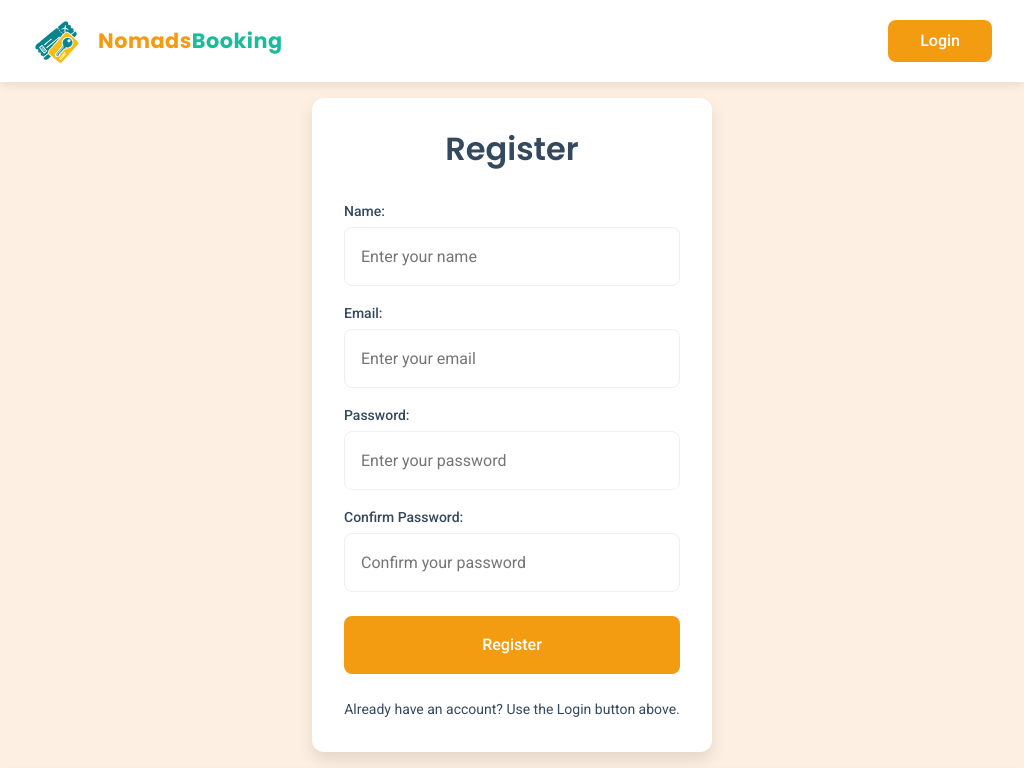
Test case: RegisterUser Component › shows success message on successful registration
Type "John Doe" into the field labelled "Name:" at (512, 257), box 344,227 -> 680,286
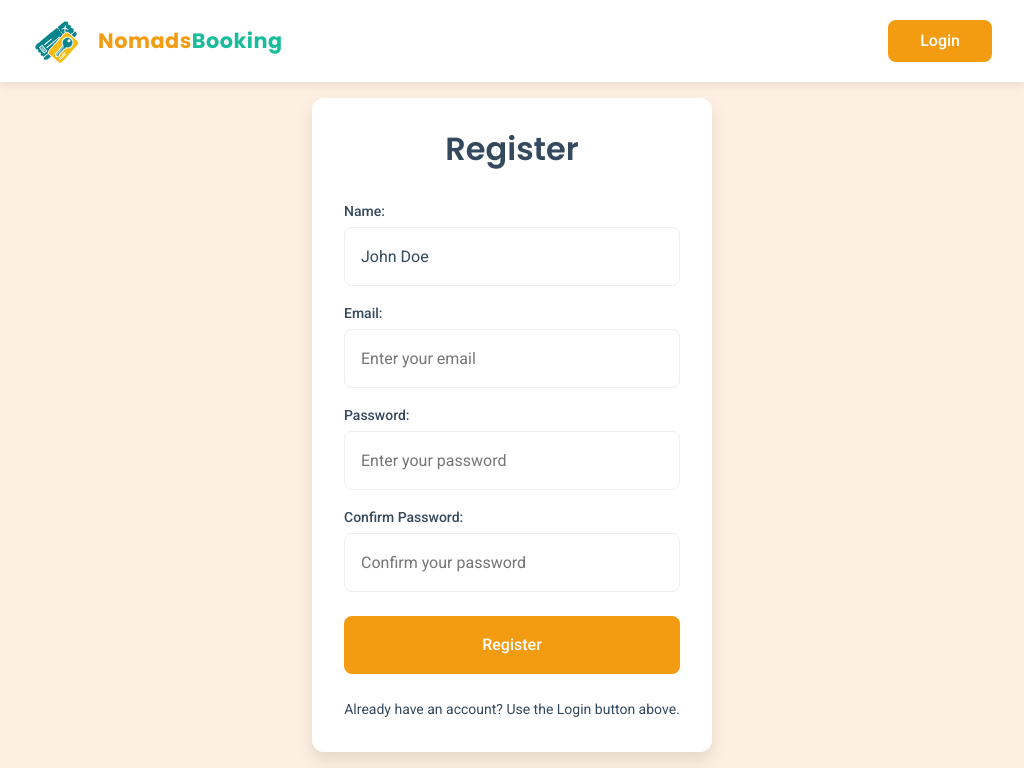
Type "john@example.com" into the field labelled "Email:" at (512, 359), box 344,329 -> 680,388
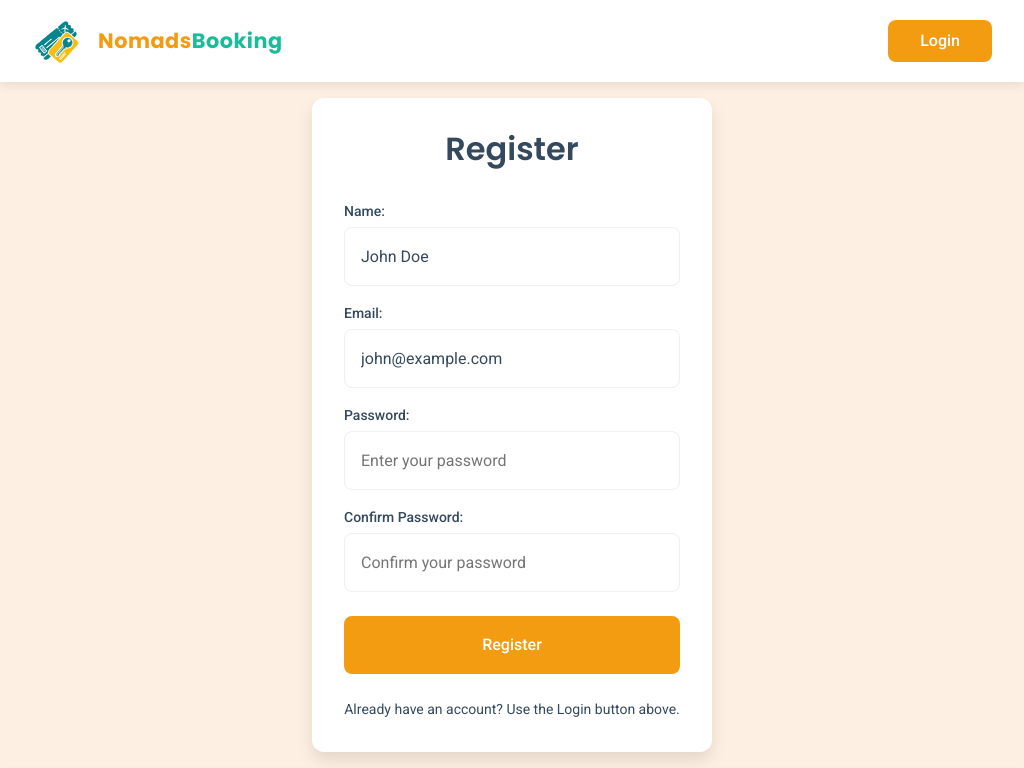
Type "password123" into the password field labelled "Password:" at (512, 461), box 344,431 -> 680,490
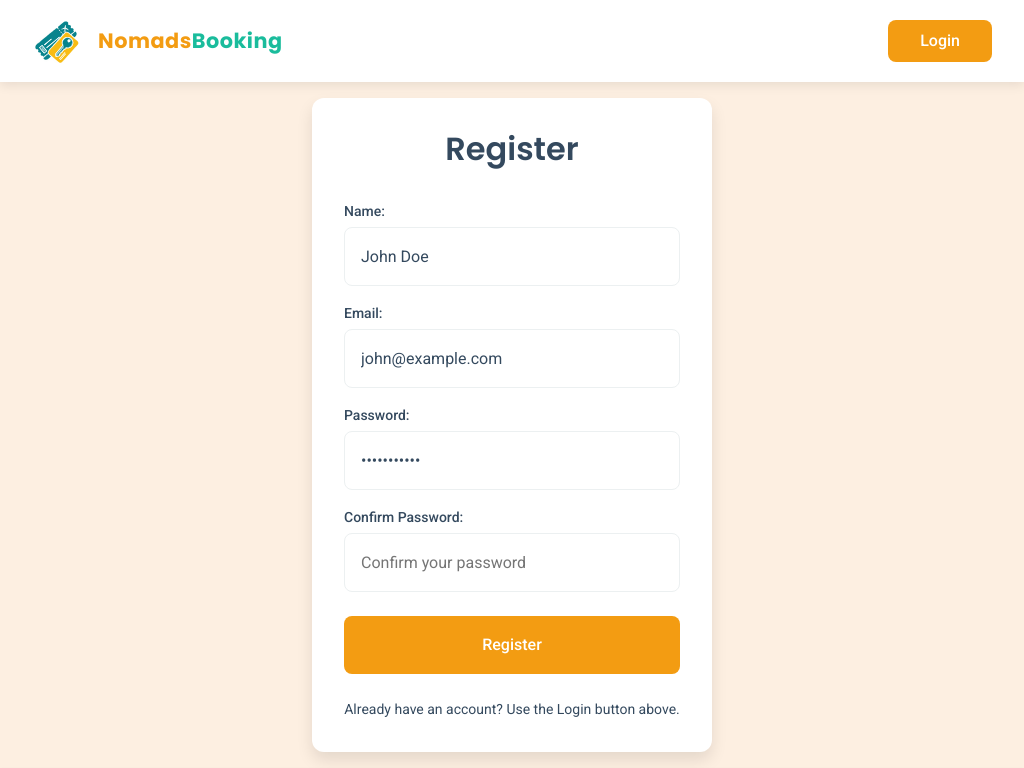
Type "password123" into the password field labelled "Confirm Password:" at (512, 562), box 344,533 -> 680,592
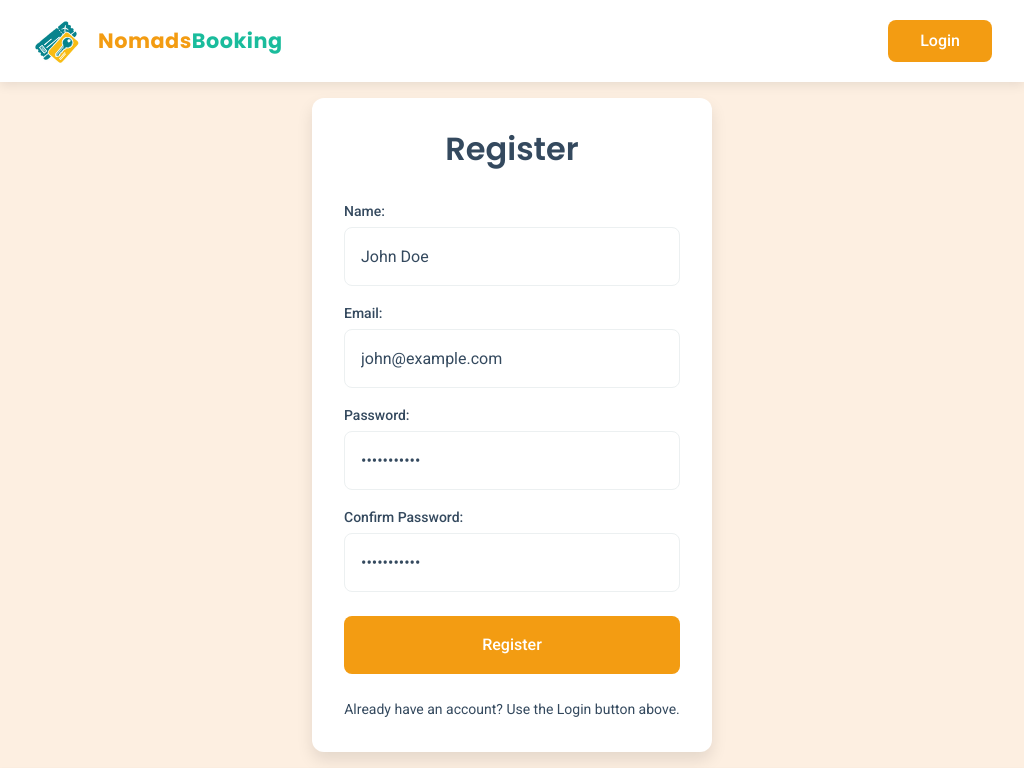
Click the button "Register" at (512, 645), box 344,616 -> 680,674
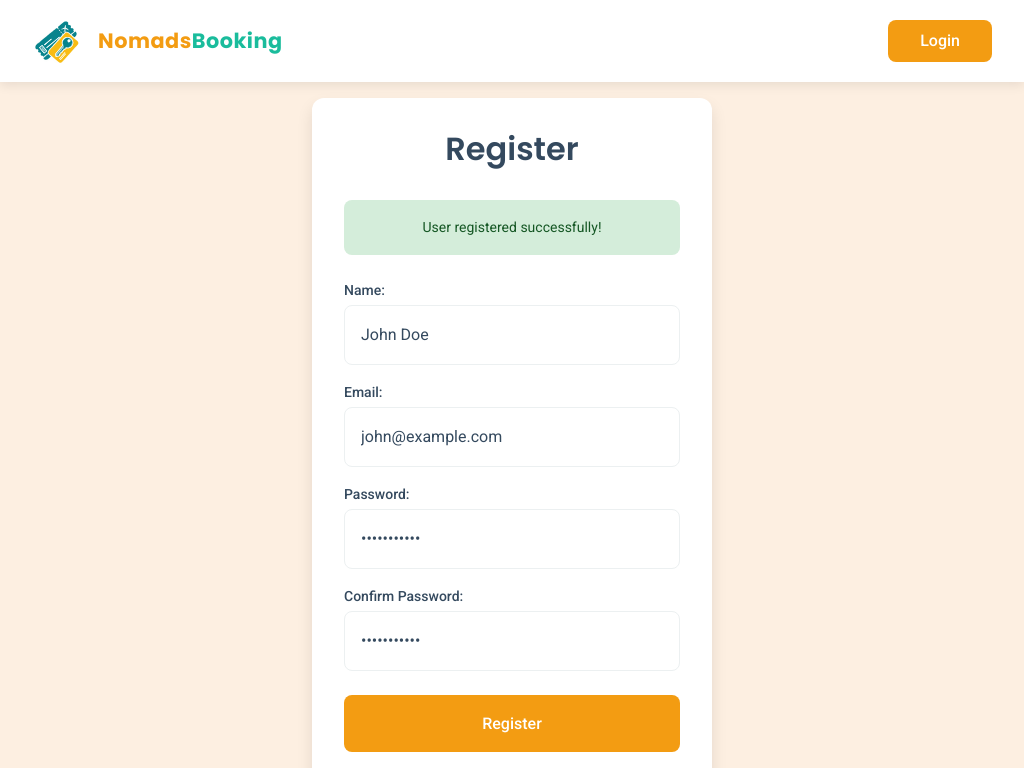
Now the text "User registered successfully!" is shown, box 344,200 -> 680,255
